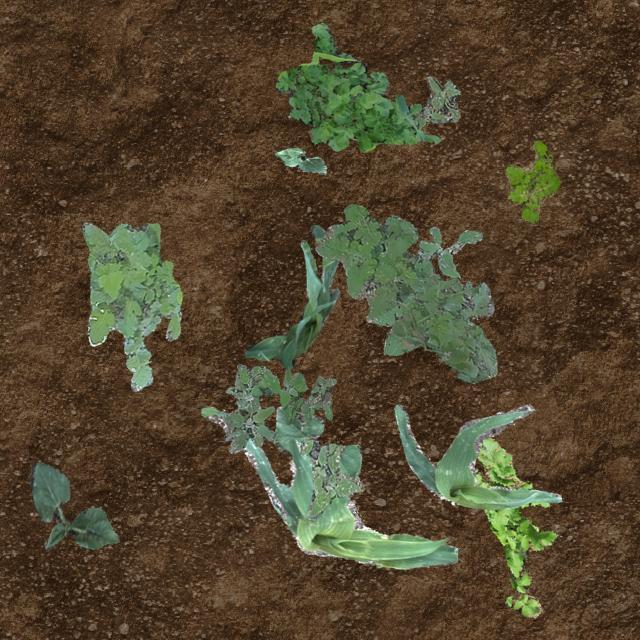crop: (198, 405, 457, 567), (394, 402, 560, 508), (244, 224, 338, 368), (28, 460, 118, 550), (272, 406, 360, 478), (274, 146, 326, 174)
weed: (314, 202, 496, 382), (274, 21, 440, 150), (82, 222, 182, 390), (472, 436, 558, 616), (236, 362, 336, 423), (297, 438, 363, 518), (504, 140, 558, 222), (222, 370, 274, 452), (417, 226, 482, 278), (410, 74, 460, 128)
